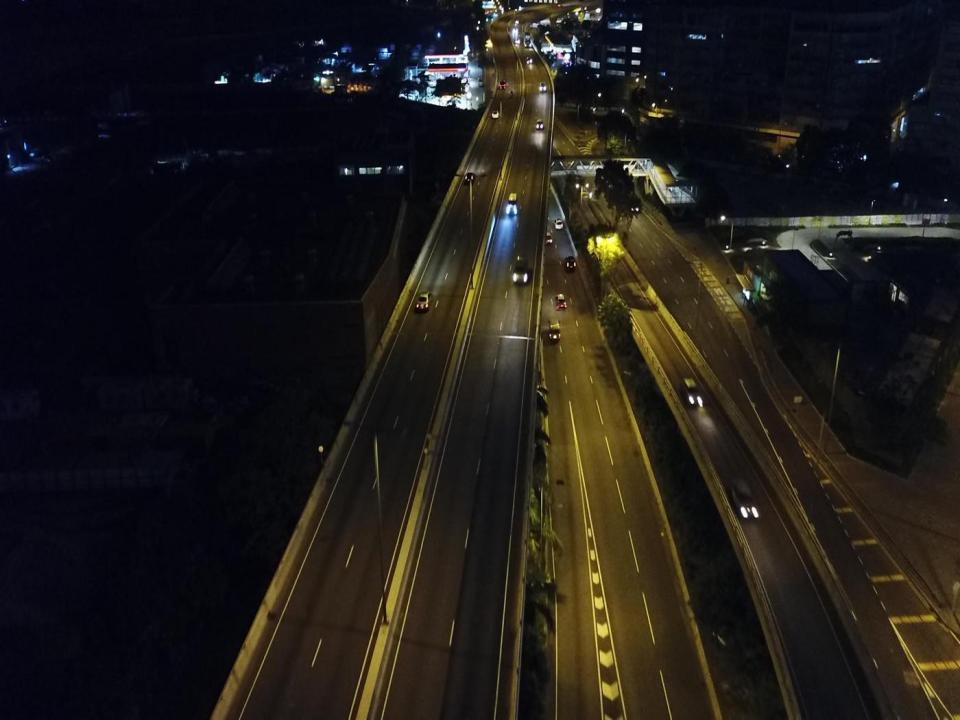bus: (523, 32, 532, 48)
car: (679, 377, 703, 408), (414, 292, 434, 310), (627, 196, 640, 212), (556, 292, 567, 307), (465, 172, 475, 185), (552, 218, 564, 228), (544, 230, 552, 244), (492, 110, 499, 118), (514, 37, 520, 45), (512, 27, 518, 35), (526, 57, 532, 64), (515, 18, 520, 25), (557, 3, 562, 6)
truck: (513, 255, 528, 284), (507, 193, 517, 214)
van: (732, 481, 759, 518), (548, 317, 561, 342), (565, 256, 575, 272), (536, 119, 543, 130), (499, 80, 506, 90), (540, 82, 546, 92), (478, 76, 483, 86)
